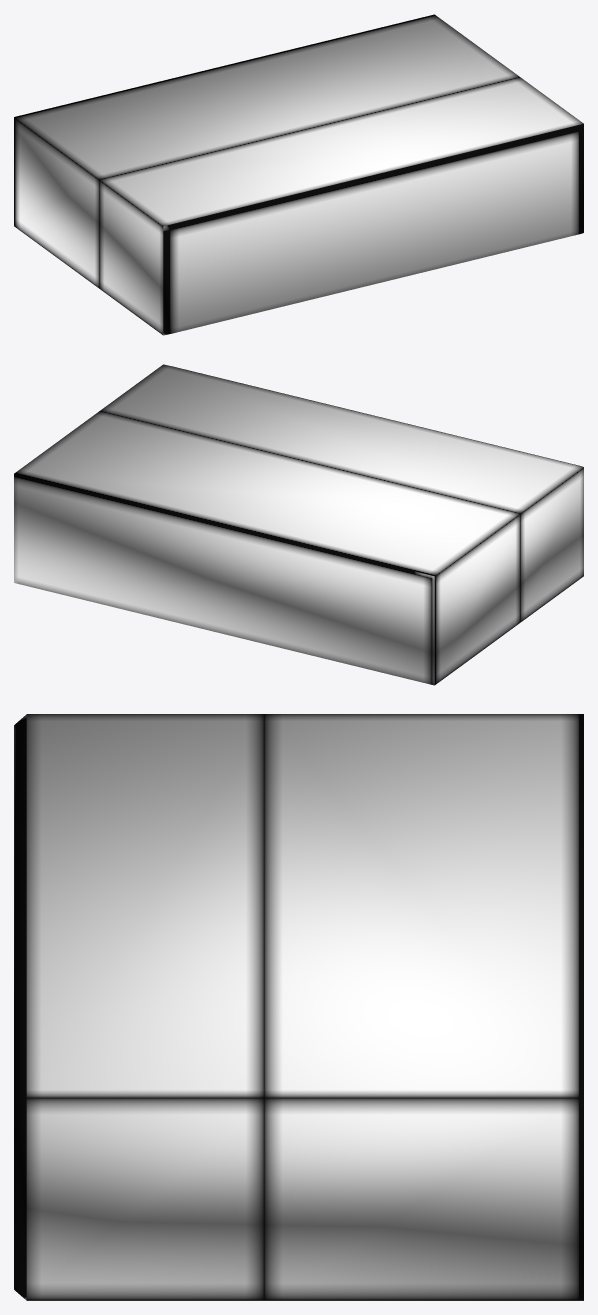
The model's file is Shelf 1.obj.
The picture shows the model from 3 angles, top to bottom: view 1: azimuth 30°, elevation 25°; view 2: azimuth 150°, elevation 25°; view 3: azimuth 270°, elevation 25°; orthographic projection. The views are drawn at different scales.
Parts seen in each view (by area): view 1: Cube1; view 2: Cube1; view 3: Cube1.
Part boxes in pixels (x1,y1,x2,y2): Cube1: [14, 14, 583, 335]; Cube1: [14, 364, 583, 685]; Cube1: [14, 714, 583, 1300].
Size of the model in its own units: 4 by 0.992 by 2.52.
1 material, 1 textured.
